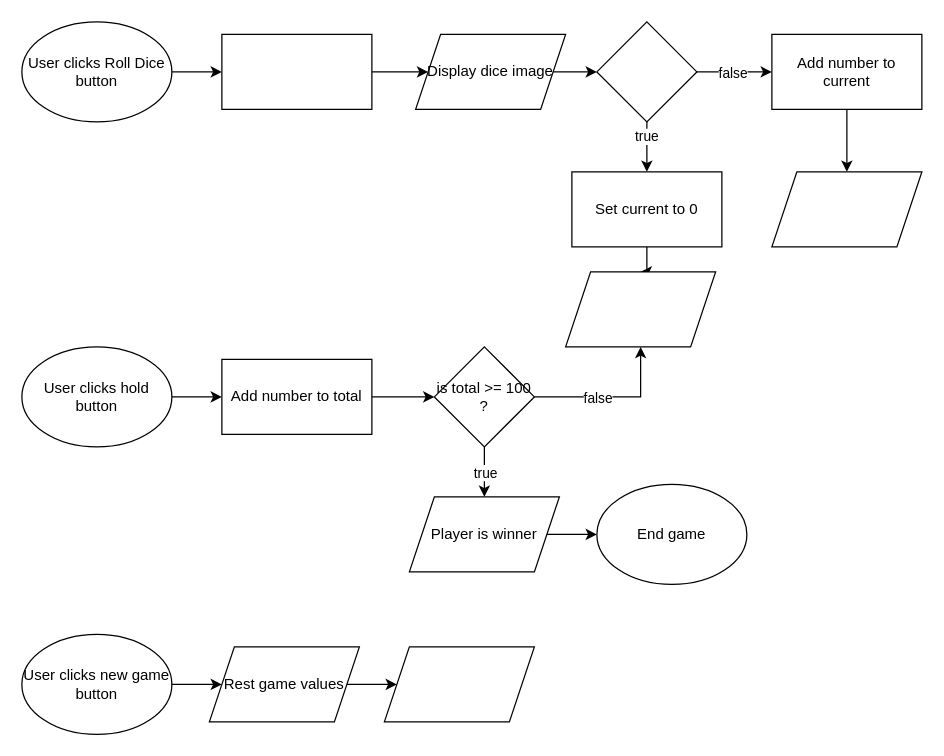
This 944x756 diagram has some shape labels left out. Here are the shapes that lost their labels. From the top down, the centre of each, then its label:
[296,71]: Generate random dice number
[646,71]: Is number 1?
[846,209]: Display new number
[640,309]: Switch player
[458,684]: Set player 1 as an active player
